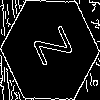Z: (25, 24, 73, 73)
